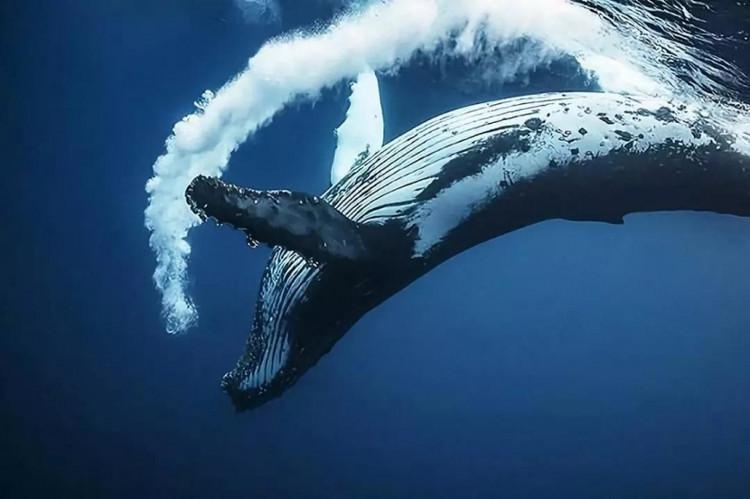fish: (176, 87, 750, 413)
